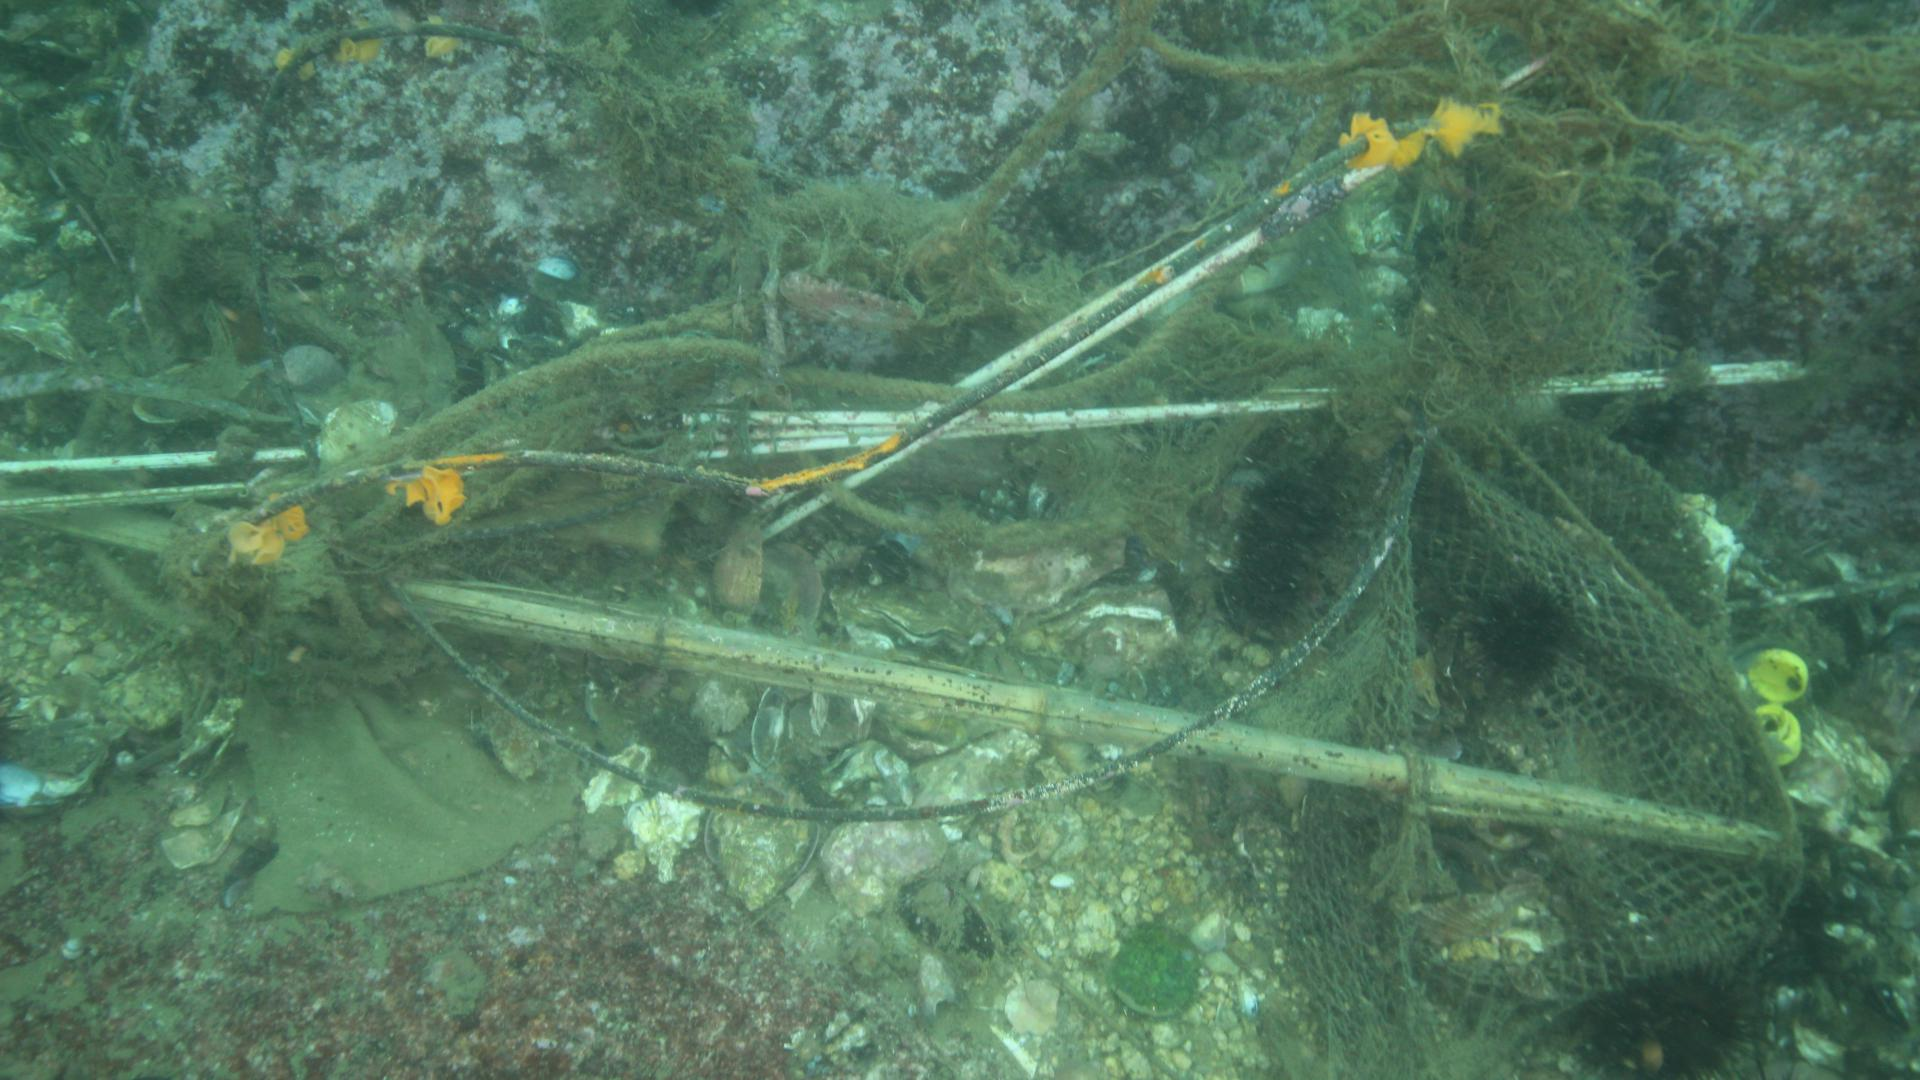bundle of ropes: (154, 8, 1445, 603)
fish net: (1348, 413, 1783, 1033)
